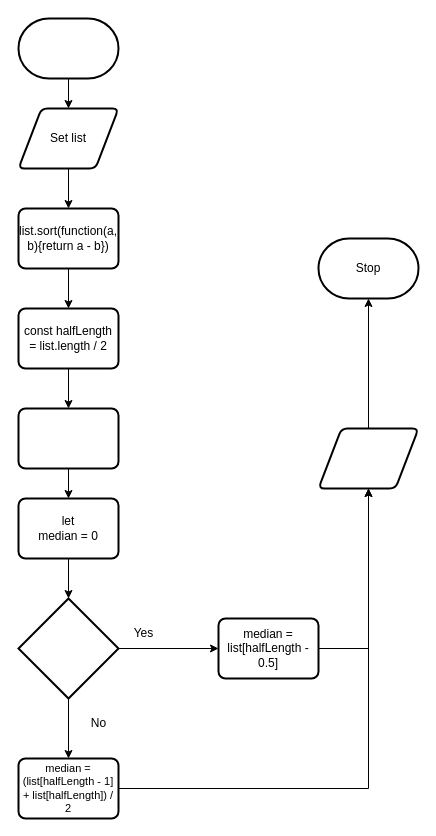
Image size: 436x836. Some labels were removed from this diagram. Here are the shapes that lost their labels. From the top down, the centre of each, then its label:
At (x=68, y=48): "Start".
At (x=68, y=438): "const remainder = halfLength % 1".
At (x=368, y=458): "return median".
At (x=68, y=648): "if (remainder != 0)".
